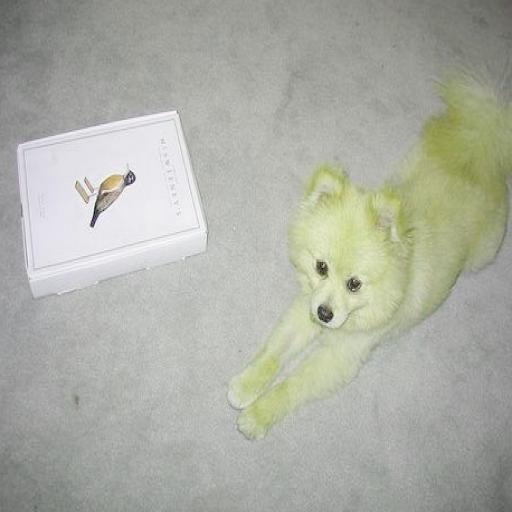dog_face: (298, 168, 405, 337)
